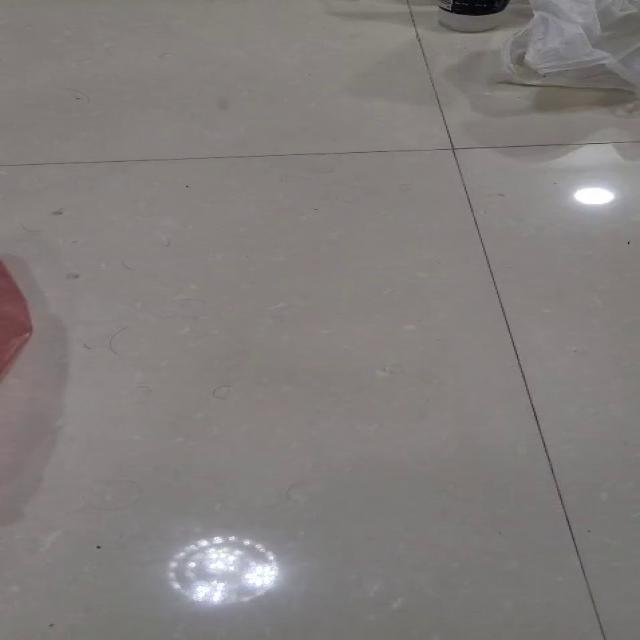plastic: (494, 0, 639, 95)
